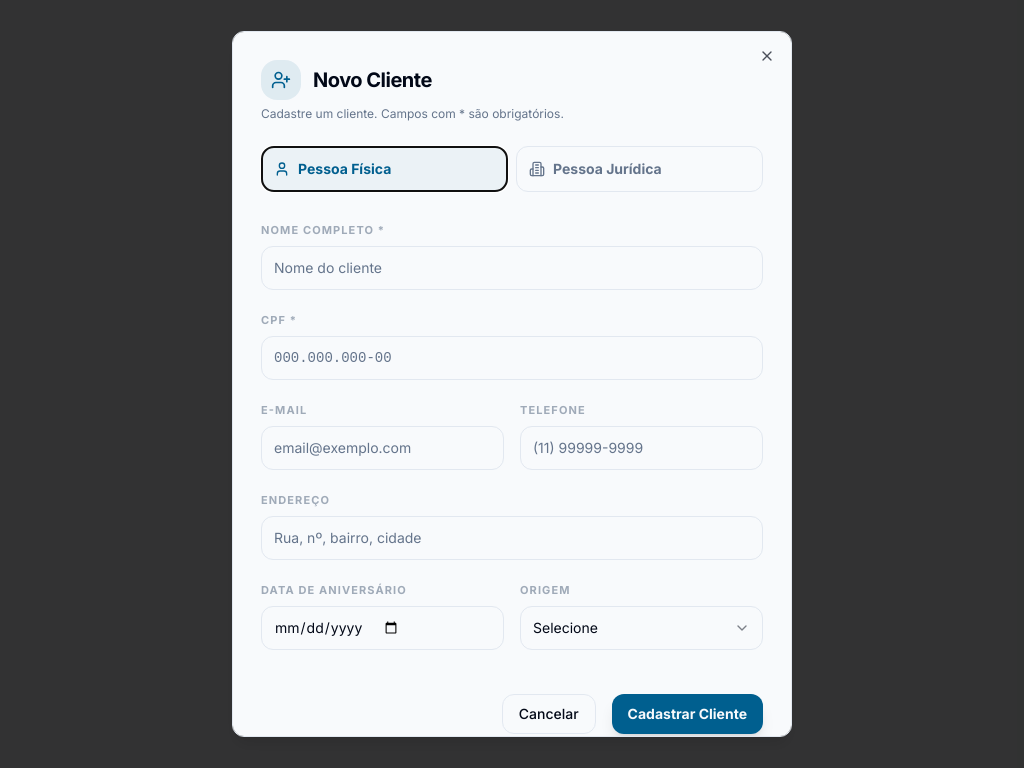
NovoClienteDialog — validação e prefill › exige o CPF quando vazio
In the field with placeholder "Nome do cliente": (512, 268) [261,246,763,290], type "Maria da Silva"
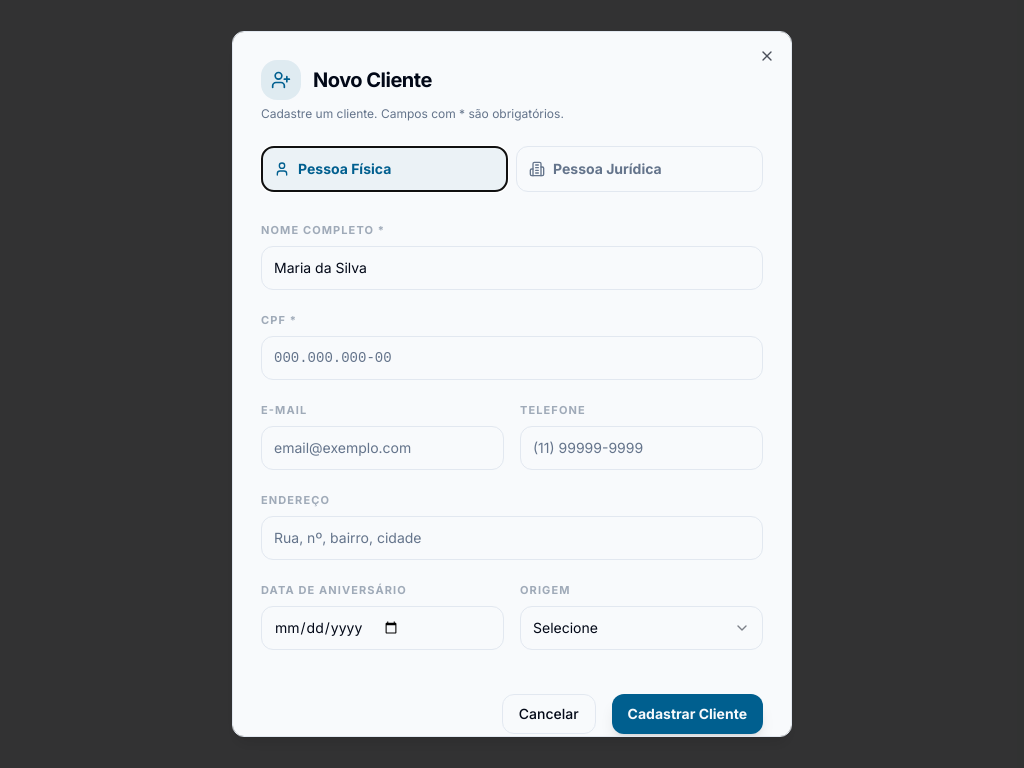
Click the button "Cadastrar Cliente": (687, 714) [612,694,763,734]
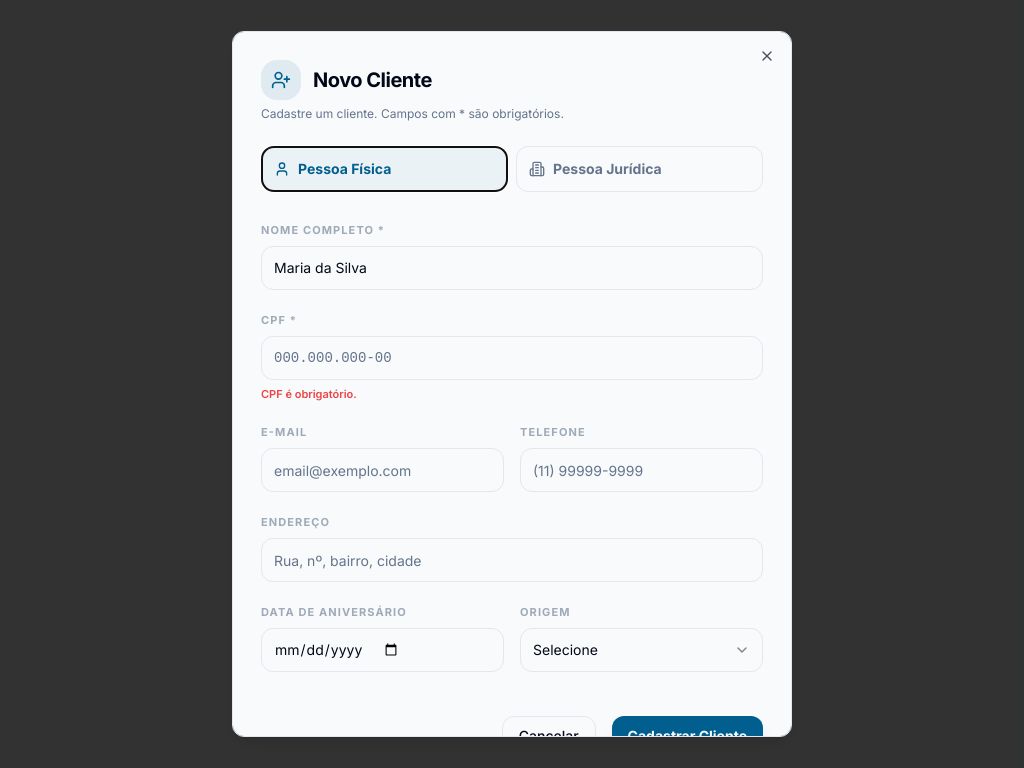
Now the text "CPF é obrigatório." is shown, box [261,387,357,401]
